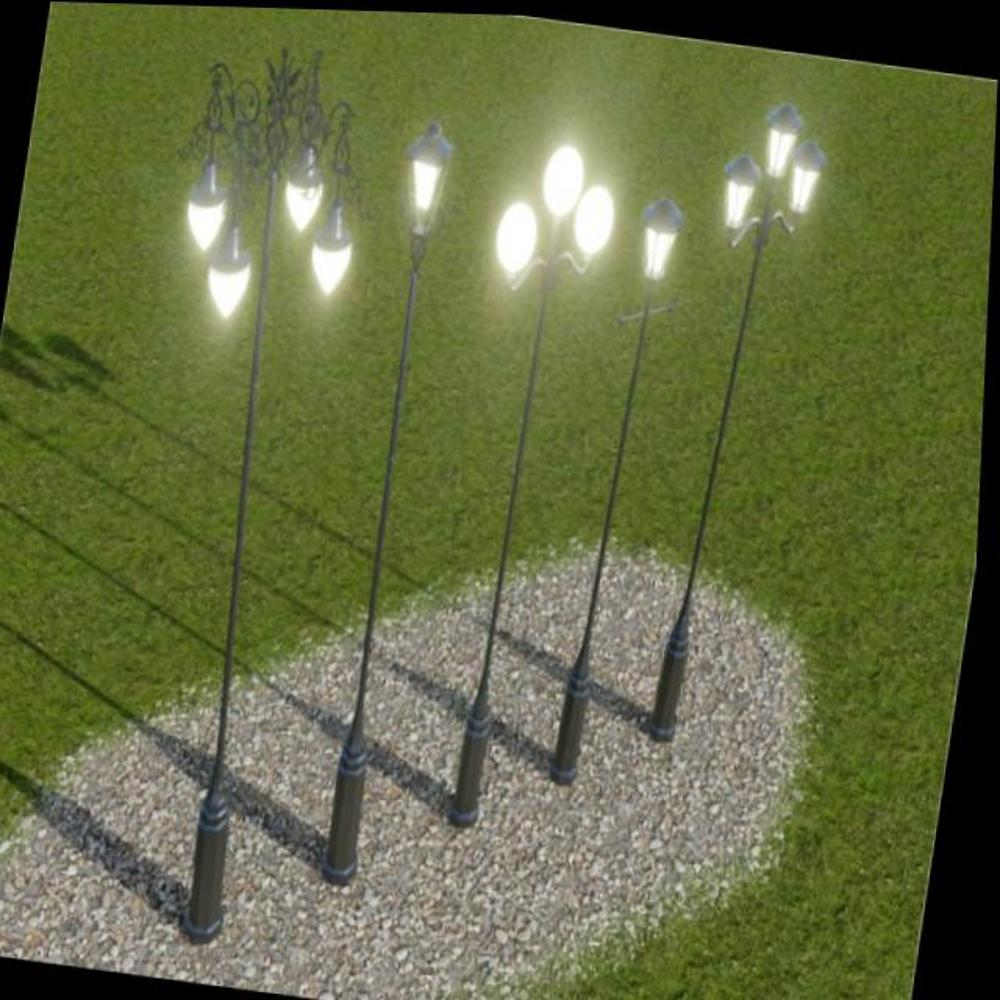shelf: (70, 26, 382, 957), (280, 98, 507, 913), (634, 58, 856, 827), (409, 114, 625, 890), (543, 141, 717, 815)
